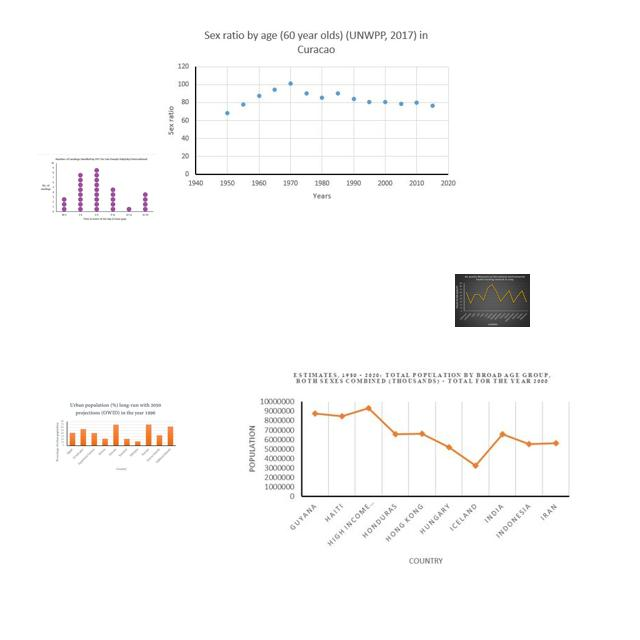Graph: (246, 368, 577, 565), (160, 26, 463, 207), (53, 401, 178, 472), (37, 154, 156, 224), (455, 274, 530, 327)
